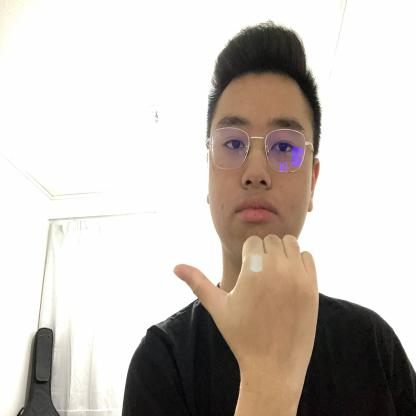right: (174, 234, 324, 365)
